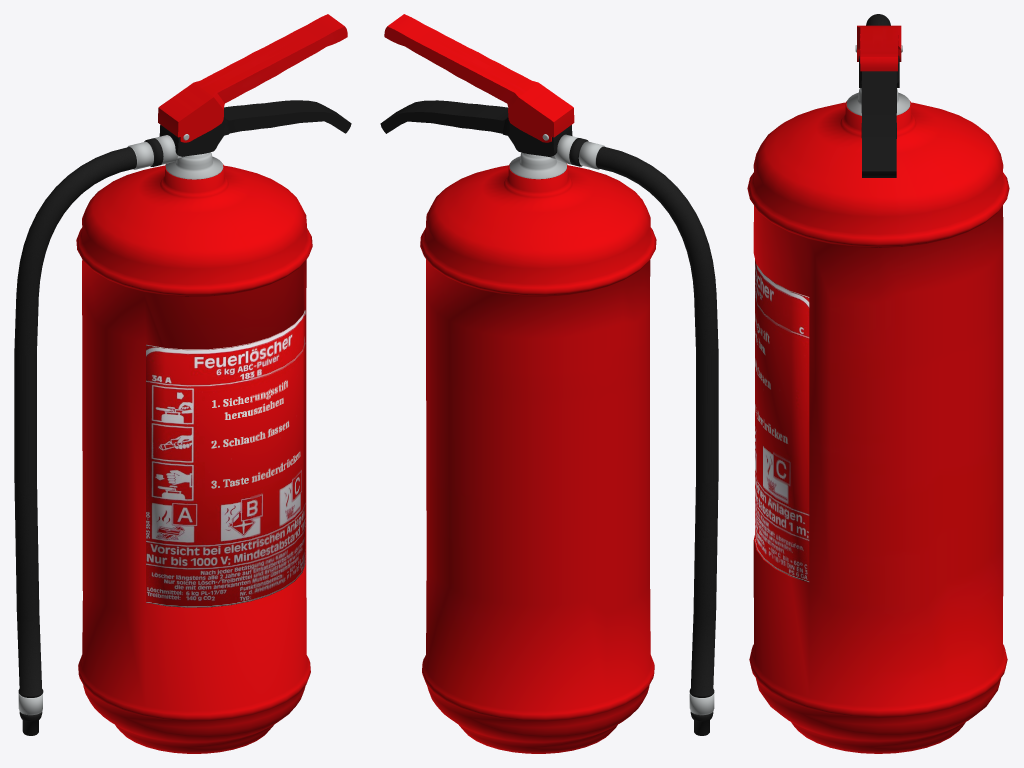
The model's file is fire_extinguisher.gltf.
The picture shows the model from 3 angles, left to right: view 1: azimuth 30°, elevation 25°; view 2: azimuth 150°, elevation 25°; view 3: azimuth 270°, elevation 25°; orthographic projection. The views are drawn at different scales.
Parts seen in each view (by area): view 1: Cylinder.157, Cylinder.165, Cylinder.162, Cube.027, Cube.028, Cylinder.158; view 2: Cylinder.157, Cylinder.162, Cube.027, Cube.028, Cylinder.158; view 3: Cylinder.157, Cylinder.165, Cube.028, Cube.027, Cylinder.158.
Part boxes in pixels (x1,y1,x2,y2): Cylinder.157: [76, 164, 312, 753]; Cylinder.165: [146, 308, 305, 607]; Cylinder.162: [14, 147, 136, 697]; Cube.027: [158, 14, 347, 142]; Cube.028: [159, 100, 351, 156]; Cylinder.158: [165, 152, 223, 179]; Cylinder.157: [420, 163, 656, 753]; Cylinder.162: [596, 146, 718, 697]; Cube.027: [384, 14, 574, 142]; Cube.028: [380, 100, 572, 156]; Cylinder.158: [509, 152, 566, 179]; Cylinder.157: [747, 101, 1009, 753]; Cylinder.165: [755, 260, 809, 582]; Cube.028: [859, 55, 899, 177]; Cube.027: [857, 25, 901, 71]; Cylinder.158: [846, 88, 910, 115].
Bounding box in the file's own units: 0.4846 × 0.9394 × 0.3028.
Materials: 6 (5 with a texture image).
